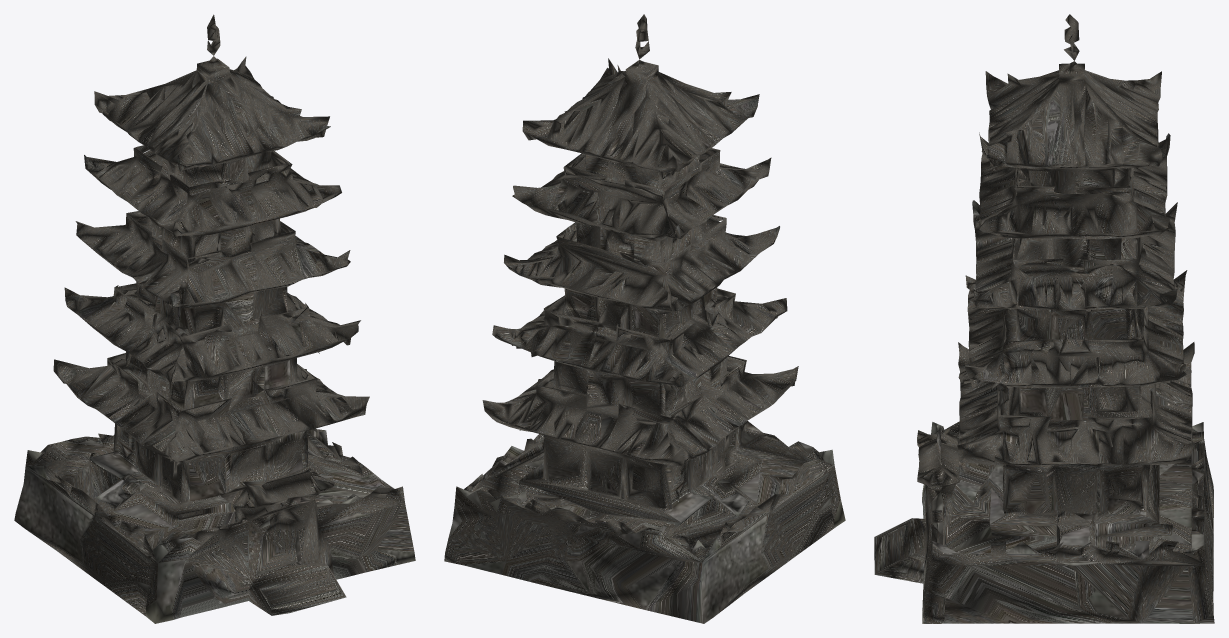
The model's file is calodanpagoda.lod1.glb.
The picture shows the model from 3 angles, left to right: view 1: azimuth 30°, elevation 25°; view 2: azimuth 150°, elevation 25°; view 3: azimuth 270°, elevation 25°; orthographic projection. The views are drawn at different scales.
Parts seen in each view (by area): view 1: calodanpagoda-centred; view 2: calodanpagoda-centred; view 3: calodanpagoda-centred.
Boxes of the visible parts, x1,y1,x2,y2 form: calodanpagoda-centred: (14,14,415,623); calodanpagoda-centred: (444,14,845,623); calodanpagoda-centred: (874,14,1214,623).
Bounding box in the file's own units: 21.92 × 42.37 × 24.
1 material, 1 textured.
